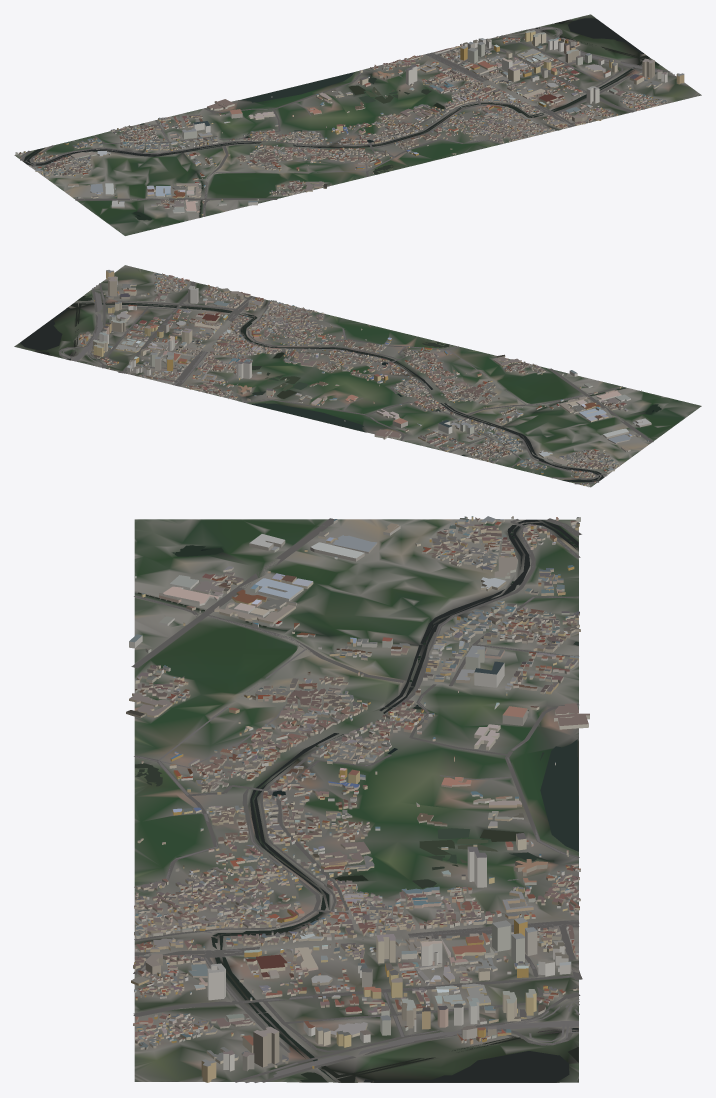
3 views of the same model, one above another, from view 1: azimuth 30°, elevation 25°; view 2: azimuth 150°, elevation 25°; view 3: azimuth 270°, elevation 25° (orthographic). The views are drawn at different scales.
Parts seen in each view (by area): view 1: ground, buildings, roads, water; view 2: ground, buildings, roads, water; view 3: ground, buildings, roads, water.
Part boxes in pixels (x1=…): ground: x1=14, y1=14, x2=701, y2=235; buildings: x1=15, y1=30, x2=684, y2=220; roads: x1=20, y1=26, x2=676, y2=216; water: x1=24, y1=18, x2=659, y2=220; ground: x1=14, y1=265, x2=701, y2=487; buildings: x1=79, y1=270, x2=651, y2=487; roads: x1=58, y1=281, x2=653, y2=484; water: x1=20, y1=296, x2=661, y2=481; ground: x1=134, y1=519, x2=578, y2=1082; buildings: x1=126, y1=516, x2=589, y2=1082; roads: x1=131, y1=518, x2=582, y2=1082; water: x1=135, y1=519, x2=578, y2=1082.
Bounding box in the file's own units: 4221 × 112 × 1463.
